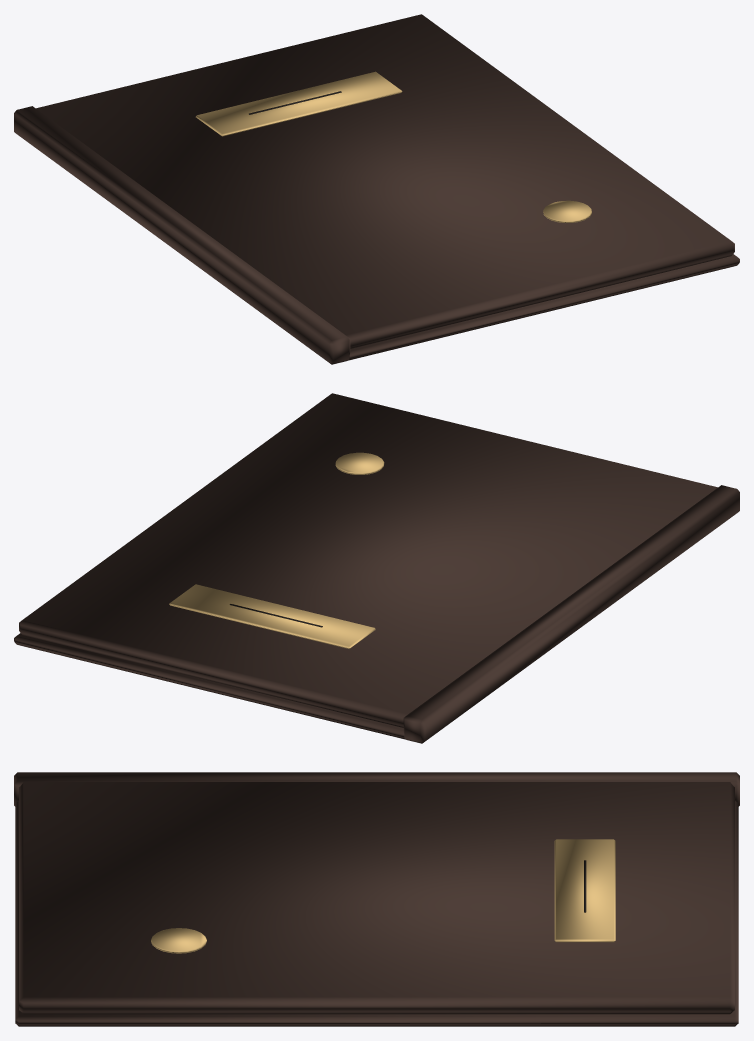
The model's file is workshop-dossier.mobile.glb.
3 views of the same model, one above another, from view 1: azimuth 30°, elevation 25°; view 2: azimuth 150°, elevation 25°; view 3: azimuth 270°, elevation 25° (orthographic). The views are drawn at different scales.
Visible parts, largest first — view 1: MITHAQ_Workshop_Dossier_Mobile_Cover, MITHAQ_Workshop_Dossier_Mobile_Brass_Details; view 2: MITHAQ_Workshop_Dossier_Mobile_Cover, MITHAQ_Workshop_Dossier_Mobile_Brass_Details; view 3: MITHAQ_Workshop_Dossier_Mobile_Cover, MITHAQ_Workshop_Dossier_Mobile_Brass_Details.
Boxes of the visible parts, left/top/right/bottom form: MITHAQ_Workshop_Dossier_Mobile_Cover: left=14, top=14, right=739, bottom=364; MITHAQ_Workshop_Dossier_Mobile_Brass_Details: left=196, top=71, right=591, bottom=222; MITHAQ_Workshop_Dossier_Mobile_Cover: left=14, top=393, right=739, bottom=743; MITHAQ_Workshop_Dossier_Mobile_Brass_Details: left=169, top=452, right=384, bottom=648; MITHAQ_Workshop_Dossier_Mobile_Cover: left=14, top=772, right=739, bottom=1026; MITHAQ_Workshop_Dossier_Mobile_Brass_Details: left=151, top=839, right=615, bottom=953.
Bounding box in the file's own units: 2.13 × 0.142 × 2.86.
